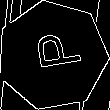P_W: (24, 33, 81, 79)
